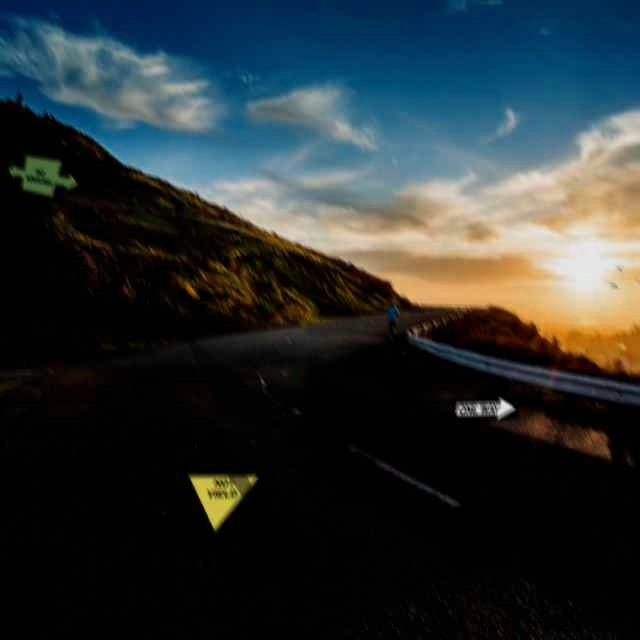GO_AROUND: (8, 154, 80, 196)
NOT_YIELD: (189, 474, 261, 531)
ONE_WAY_ right: (451, 396, 523, 420)
